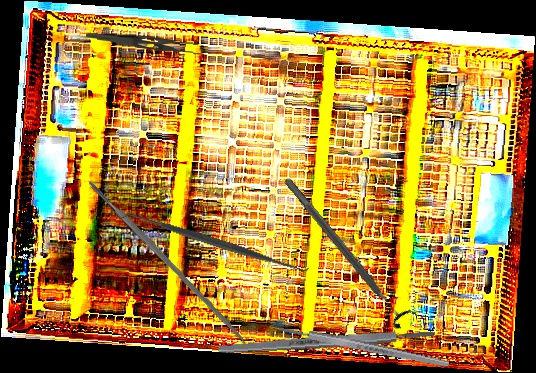Dressing Forceps: (85, 31, 205, 58)
Fixation Ring: (275, 169, 419, 333)
Scalpel Handle: (85, 176, 250, 347), (278, 323, 450, 370), (217, 327, 436, 356)
Spatula Surgical: (119, 202, 311, 283)
